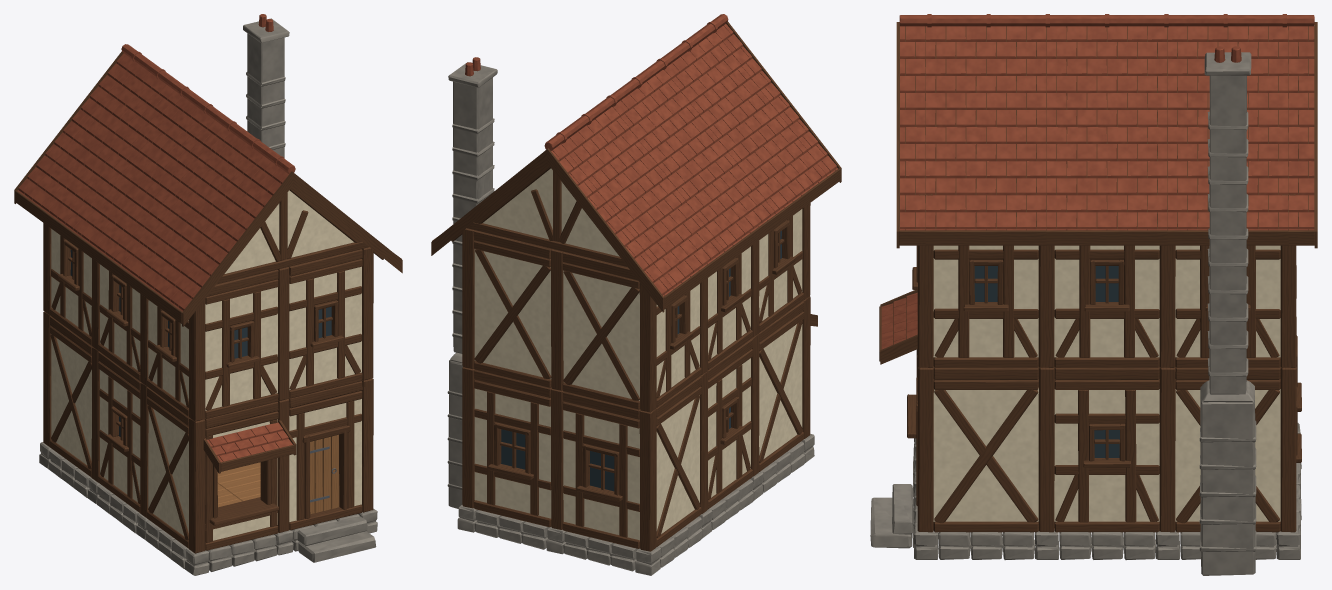
Rendered from house_townhouse.glb.
3 views of the same model, side by side, from view 1: azimuth 30°, elevation 25°; view 2: azimuth 150°, elevation 25°; view 3: azimuth 270°, elevation 25° (orthographic). The views are drawn at different scales.
Parts seen in each view (by area): view 1: house_townhouse_static; view 2: house_townhouse_static; view 3: house_townhouse_static.
Part boxes in pixels (x1,y1,x2,y2): house_townhouse_static: [14, 14, 402, 575]; house_townhouse_static: [431, 14, 841, 575]; house_townhouse_static: [870, 14, 1317, 575].
Bounding box in the file's own units: 5.51 × 9.52 × 7.4.
Materials: 7 (7 with a texture image).
